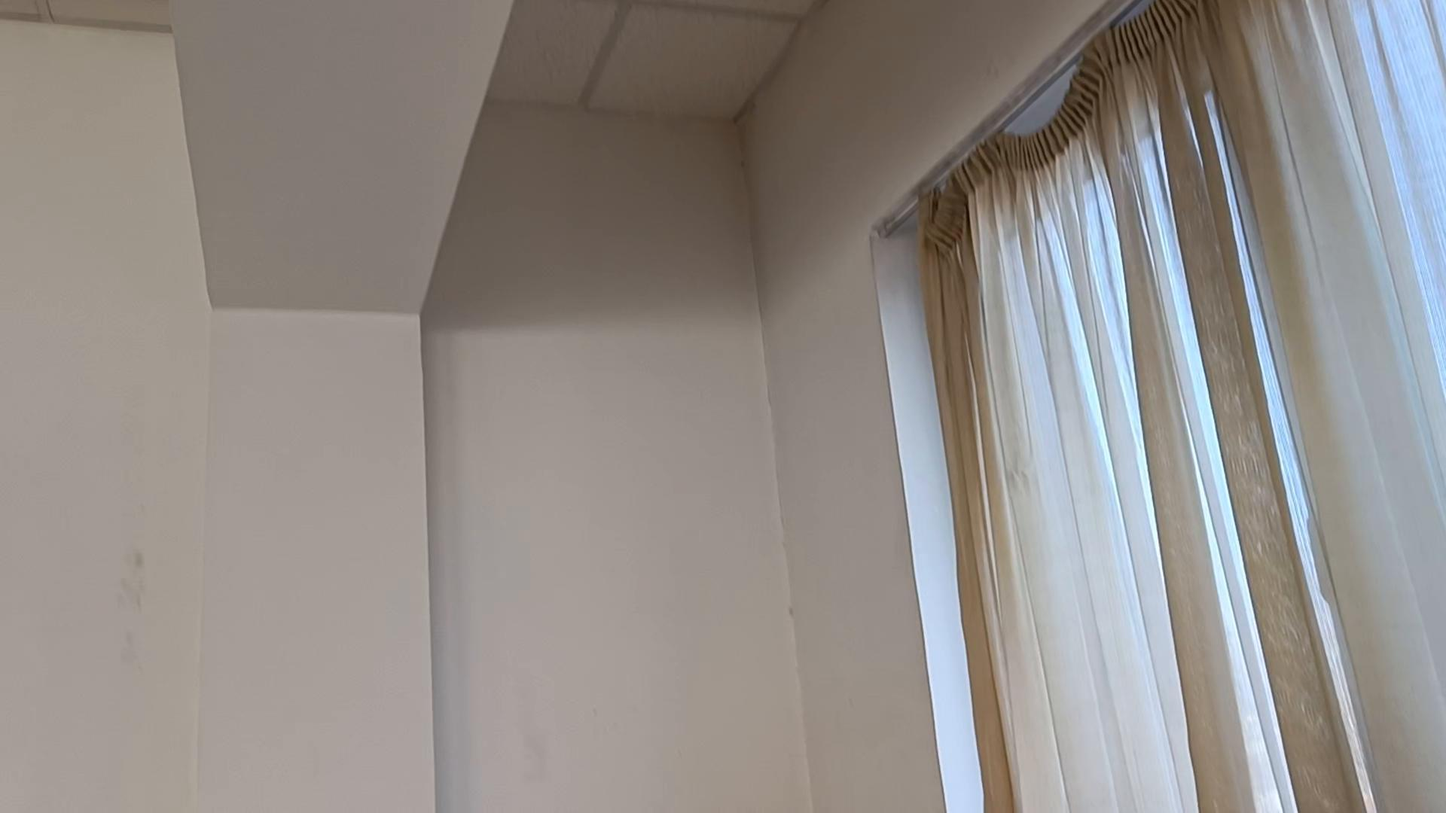ceiling: (0, 0, 511, 315), (859, 0, 1134, 228)
pillar: (920, 0, 1445, 812)
wall: (0, 0, 612, 812), (744, 0, 905, 226)
